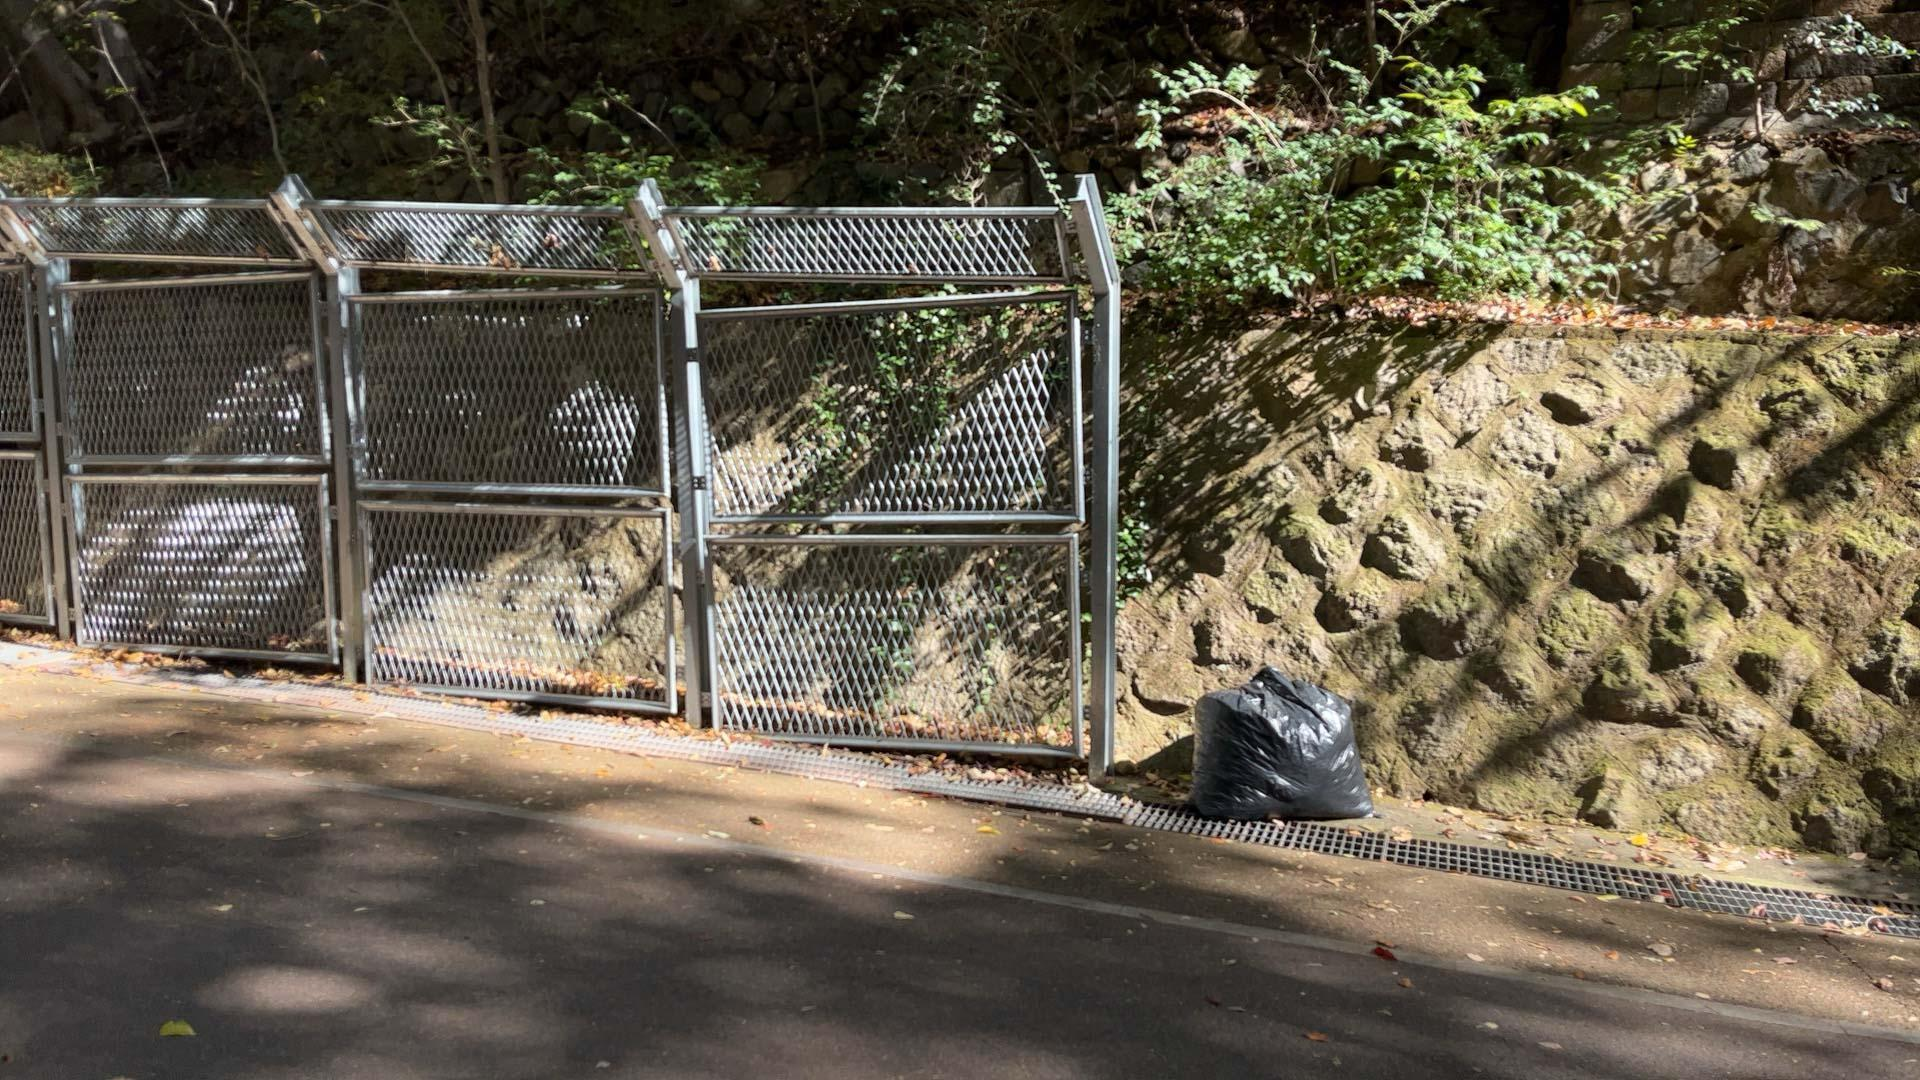black_bag: (1173, 654, 1381, 832)
